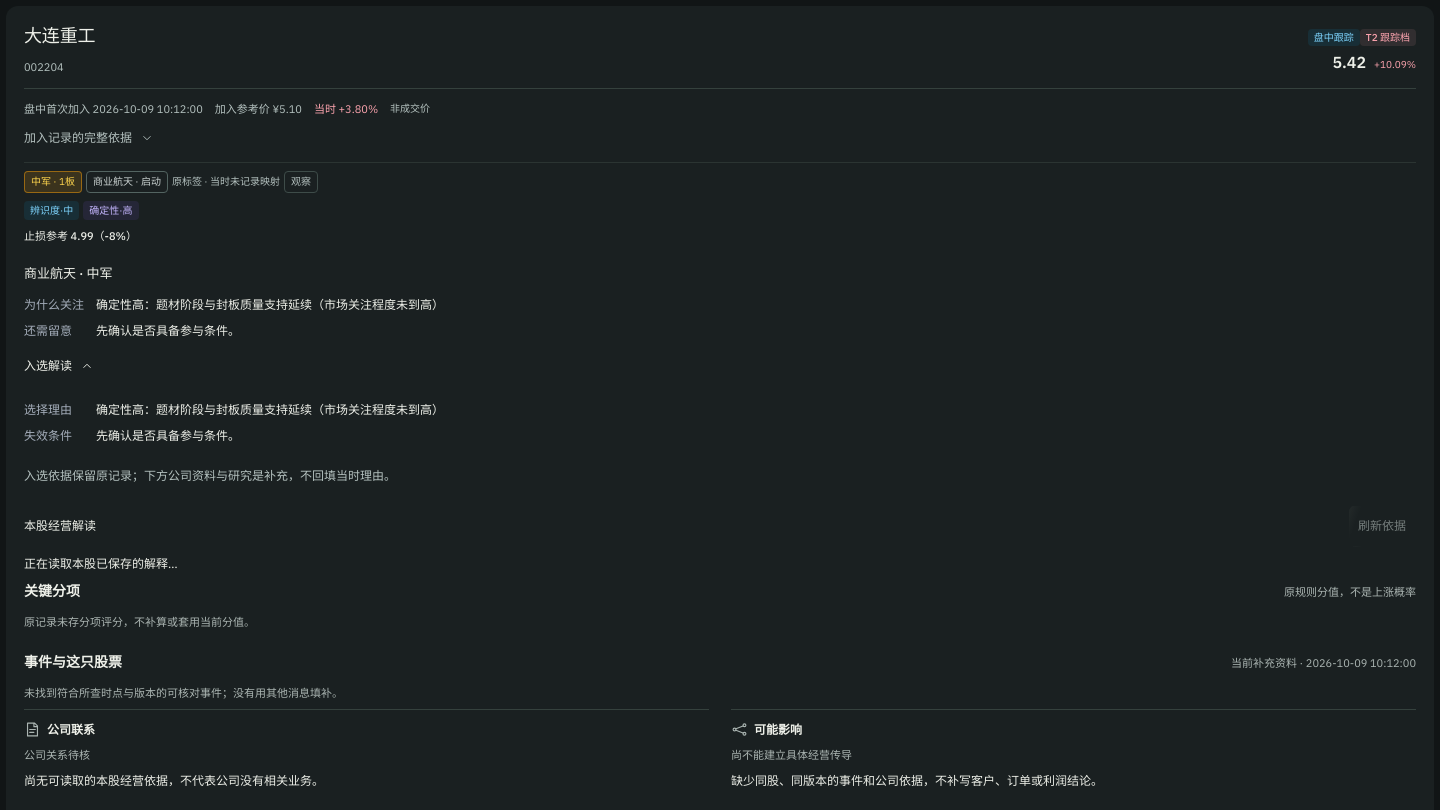
Test: 首次加入记录的来源与参考身份 › preserves a recorded join after the stock becomes a sealed reference and labels its snapshot clock
Expected: the element named "盘中首次加入记录" shows "盘中首次加入", [24,101,1416,163]
Expected: the element named "盘中首次加入记录" shows "10:12:00", [157,102,203,116]
Click the button "加入记录的完整依据": click(89, 138) [24,122,154,154]
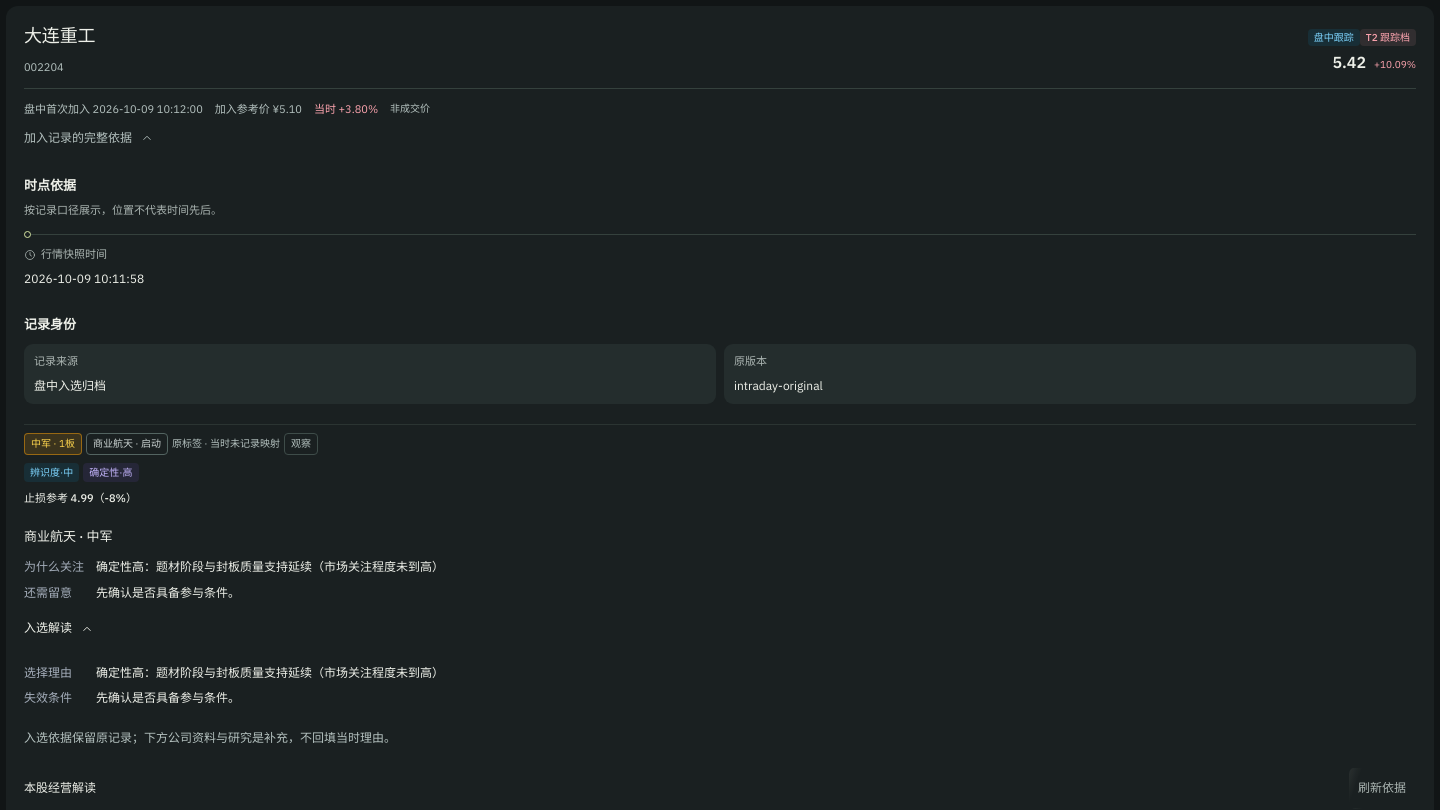
Result: the text "2026-10-09 10:11:58" is shown at [24,271,144,286]
Result: the element named "盘中首次加入记录" shows "intraday-original" at [734,378,823,394]
